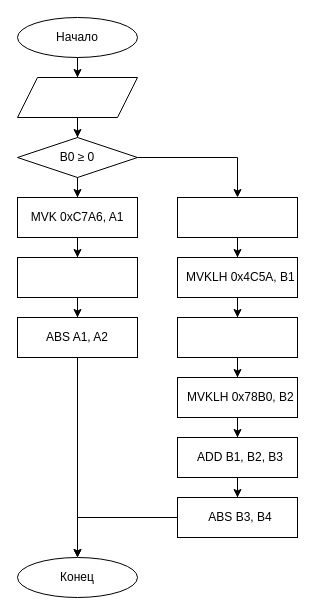
This 315x615 diagram has some shape labels left out. Here are the shapes that lost their labels. From the top down, the centre of each, then its label:
point (77, 97): Ввод A8
point (237, 217): MVK 0x8600, B1
point (77, 277): MVKLH 0x000E, A1
point (237, 337): MVK 0x5D03, B2
